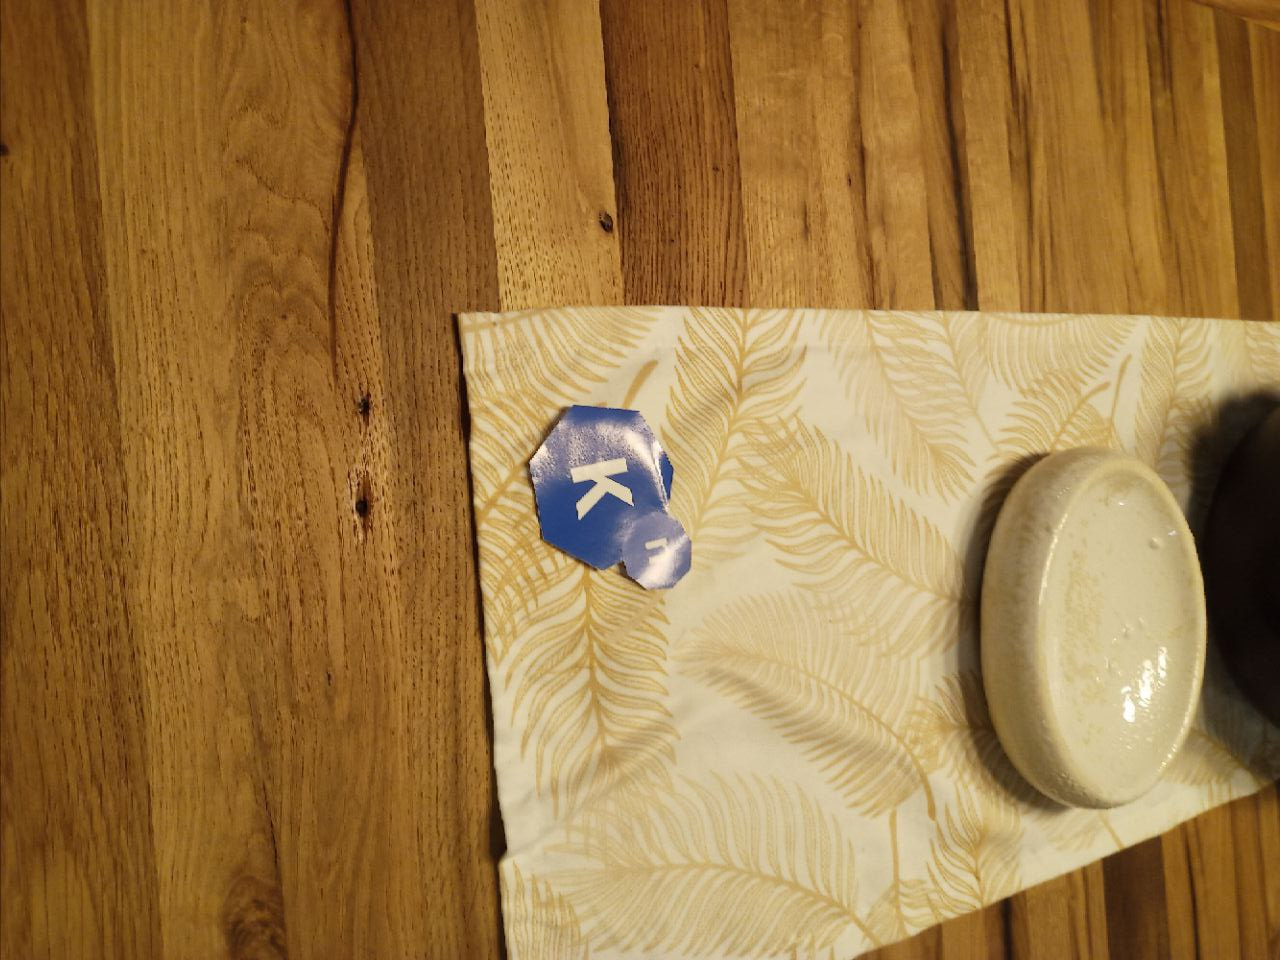knative: (525, 403, 693, 591)
